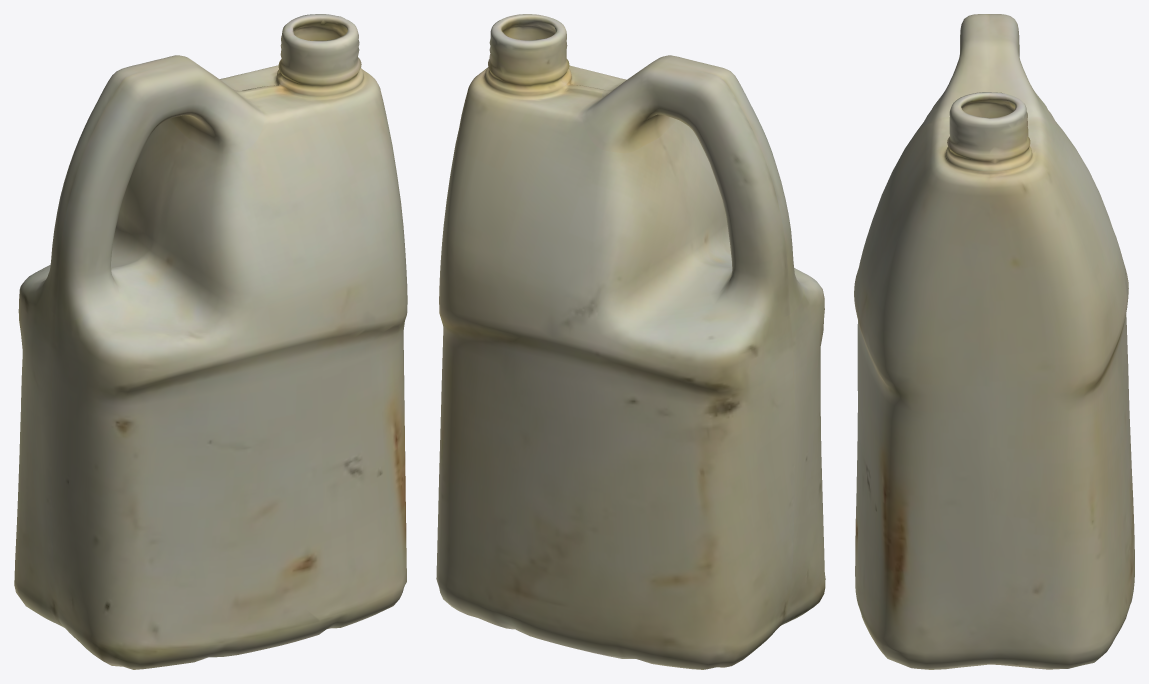
File: plastic_bottle_gallon.glb
3 views of the same model, side by side, from view 1: azimuth 30°, elevation 25°; view 2: azimuth 150°, elevation 25°; view 3: azimuth 270°, elevation 25° (orthographic).
Visible parts, largest first — view 1: plastic_bottle_gallon; view 2: plastic_bottle_gallon; view 3: plastic_bottle_gallon.
Boxes of the visible parts, box(x1,y1,x2,y2) form: plastic_bottle_gallon: box(14, 14, 407, 669); plastic_bottle_gallon: box(436, 14, 825, 669); plastic_bottle_gallon: box(854, 14, 1134, 669).
Bounding box in the file's own units: 0.1663 × 0.2745 × 0.1263.
1 material, 1 textured.
